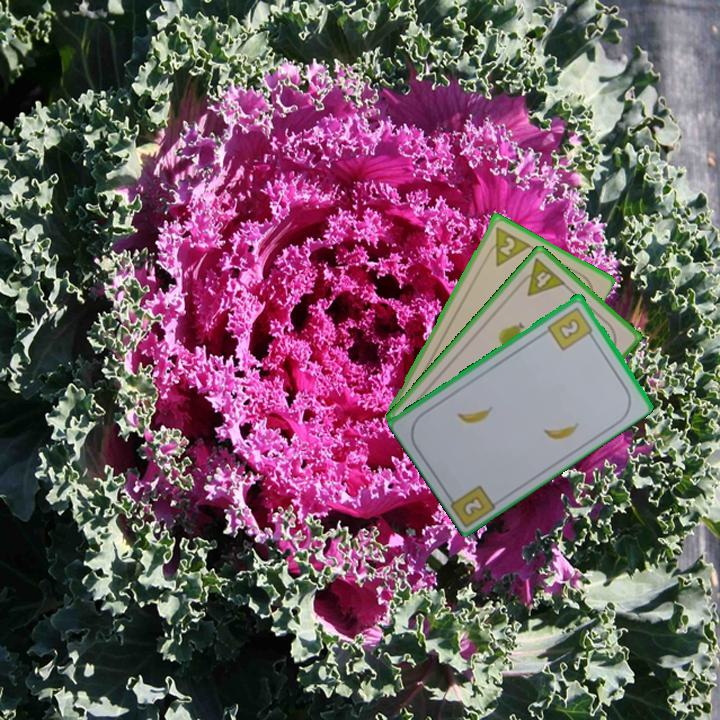2b: (544, 303, 597, 353), (461, 495, 485, 518)
2p: (481, 223, 532, 269)
4p: (514, 254, 568, 299)
